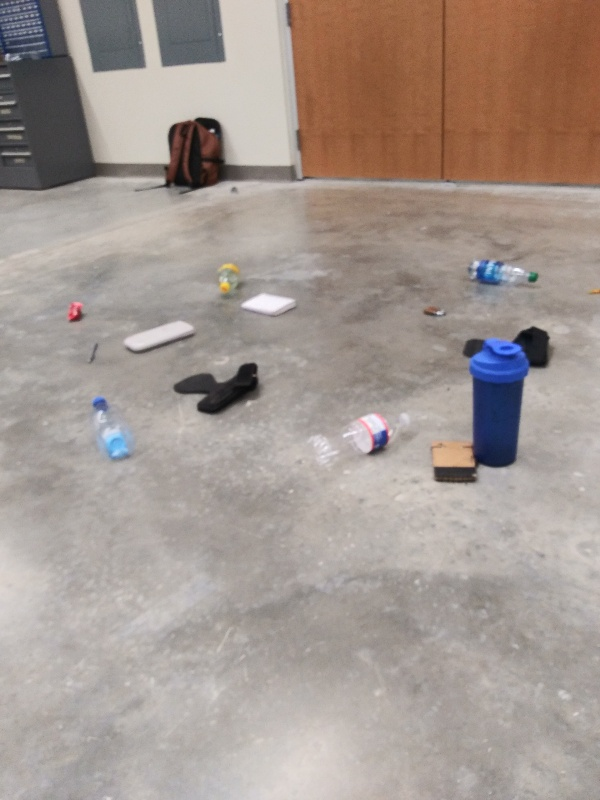bottle: (302, 406, 417, 478), (87, 393, 139, 464), (462, 252, 543, 294), (212, 256, 244, 299)
